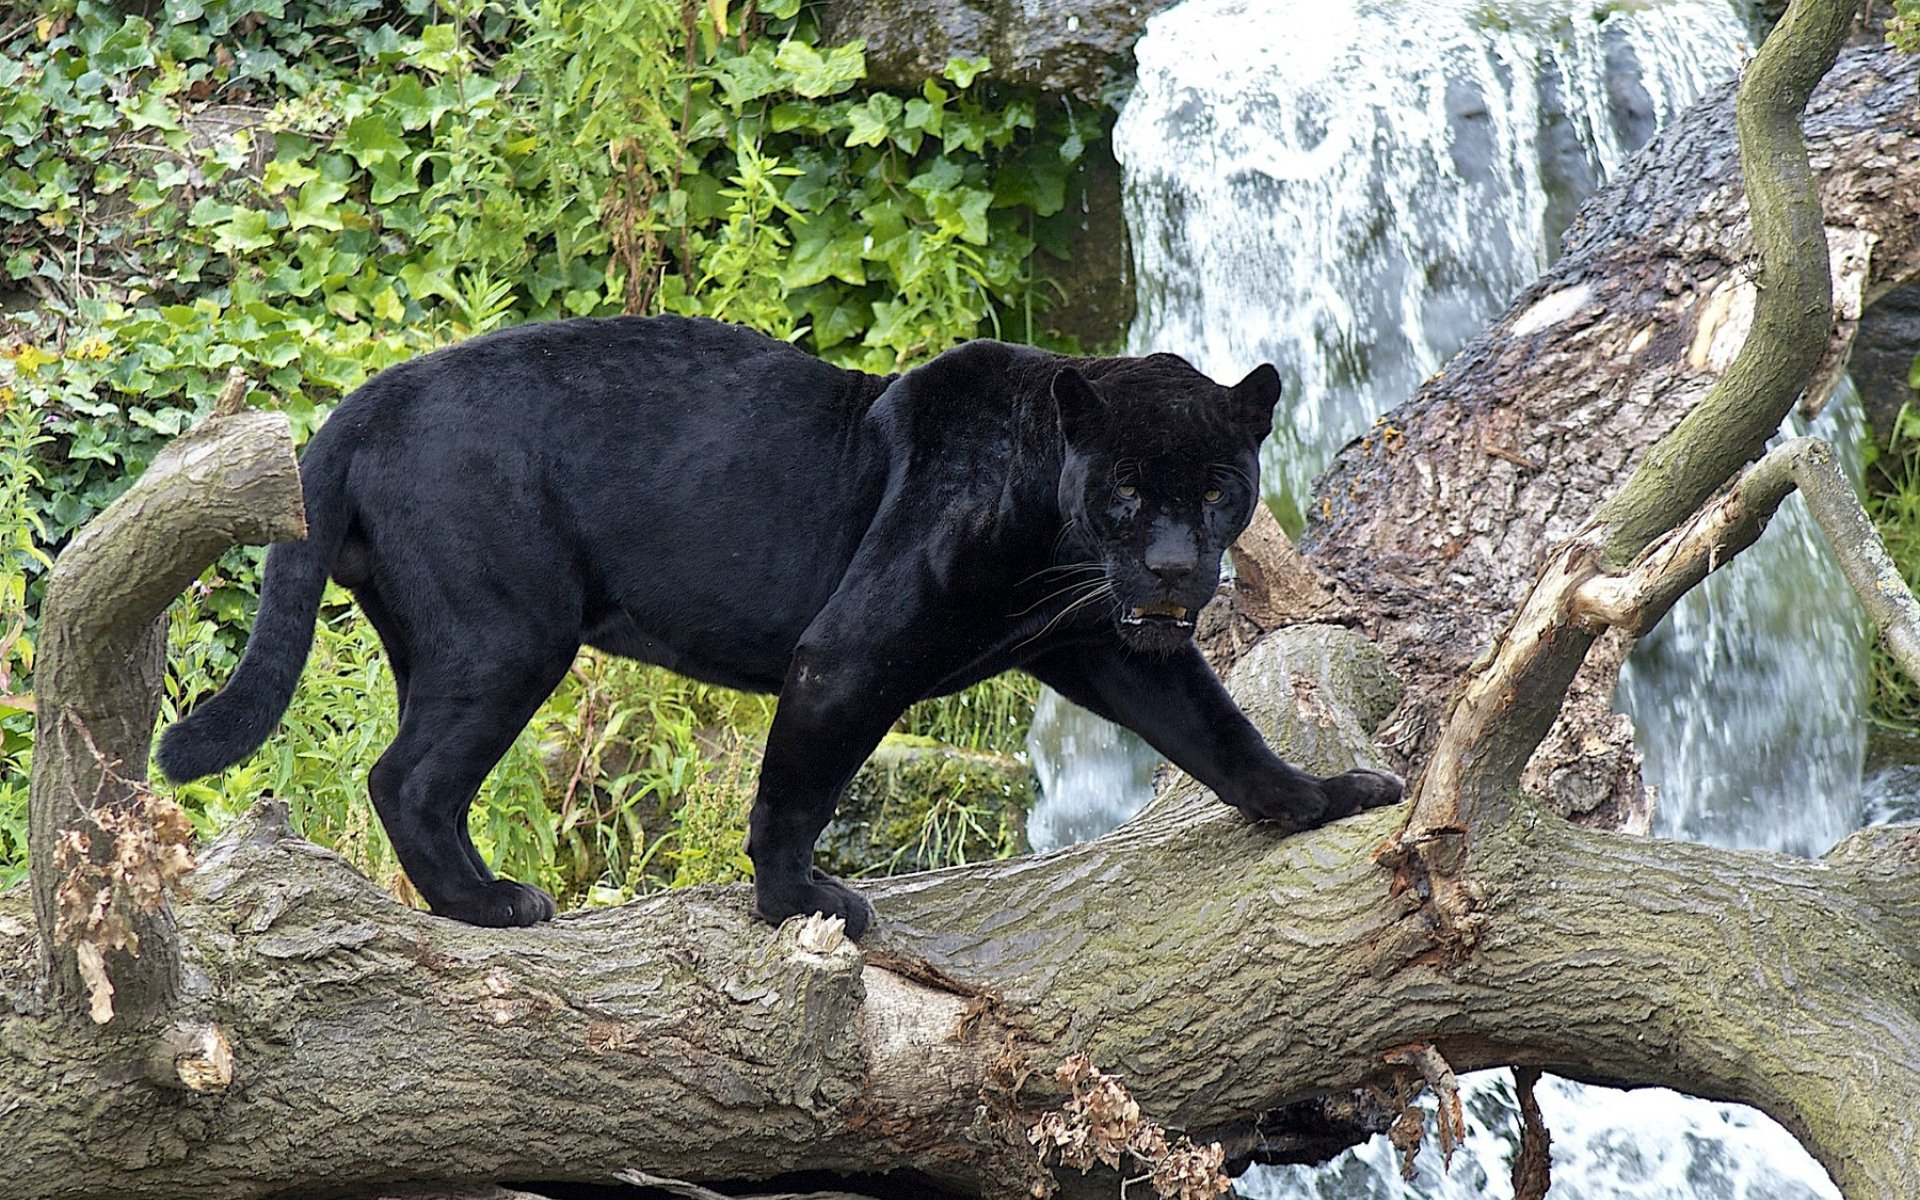panther: (1001, 332, 1321, 673)
